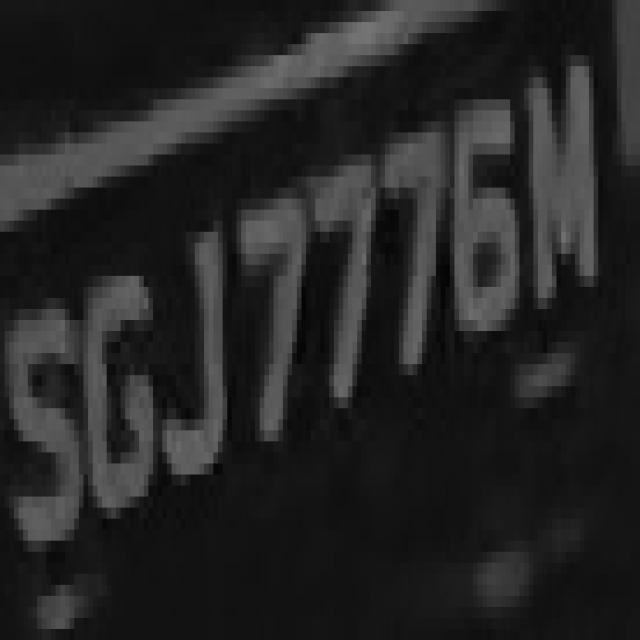6: (427, 55, 524, 386)
7: (357, 89, 441, 398), (223, 188, 306, 497), (292, 132, 371, 452)
G: (84, 210, 162, 540)
J: (134, 166, 232, 530)
M: (520, 55, 608, 386)
S: (5, 265, 84, 596)
